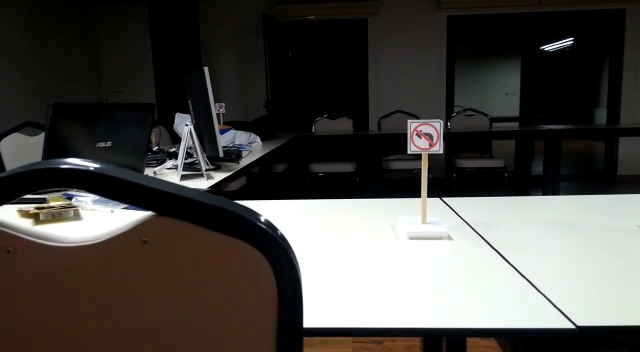sola_donulmez: (409, 120, 442, 155)
